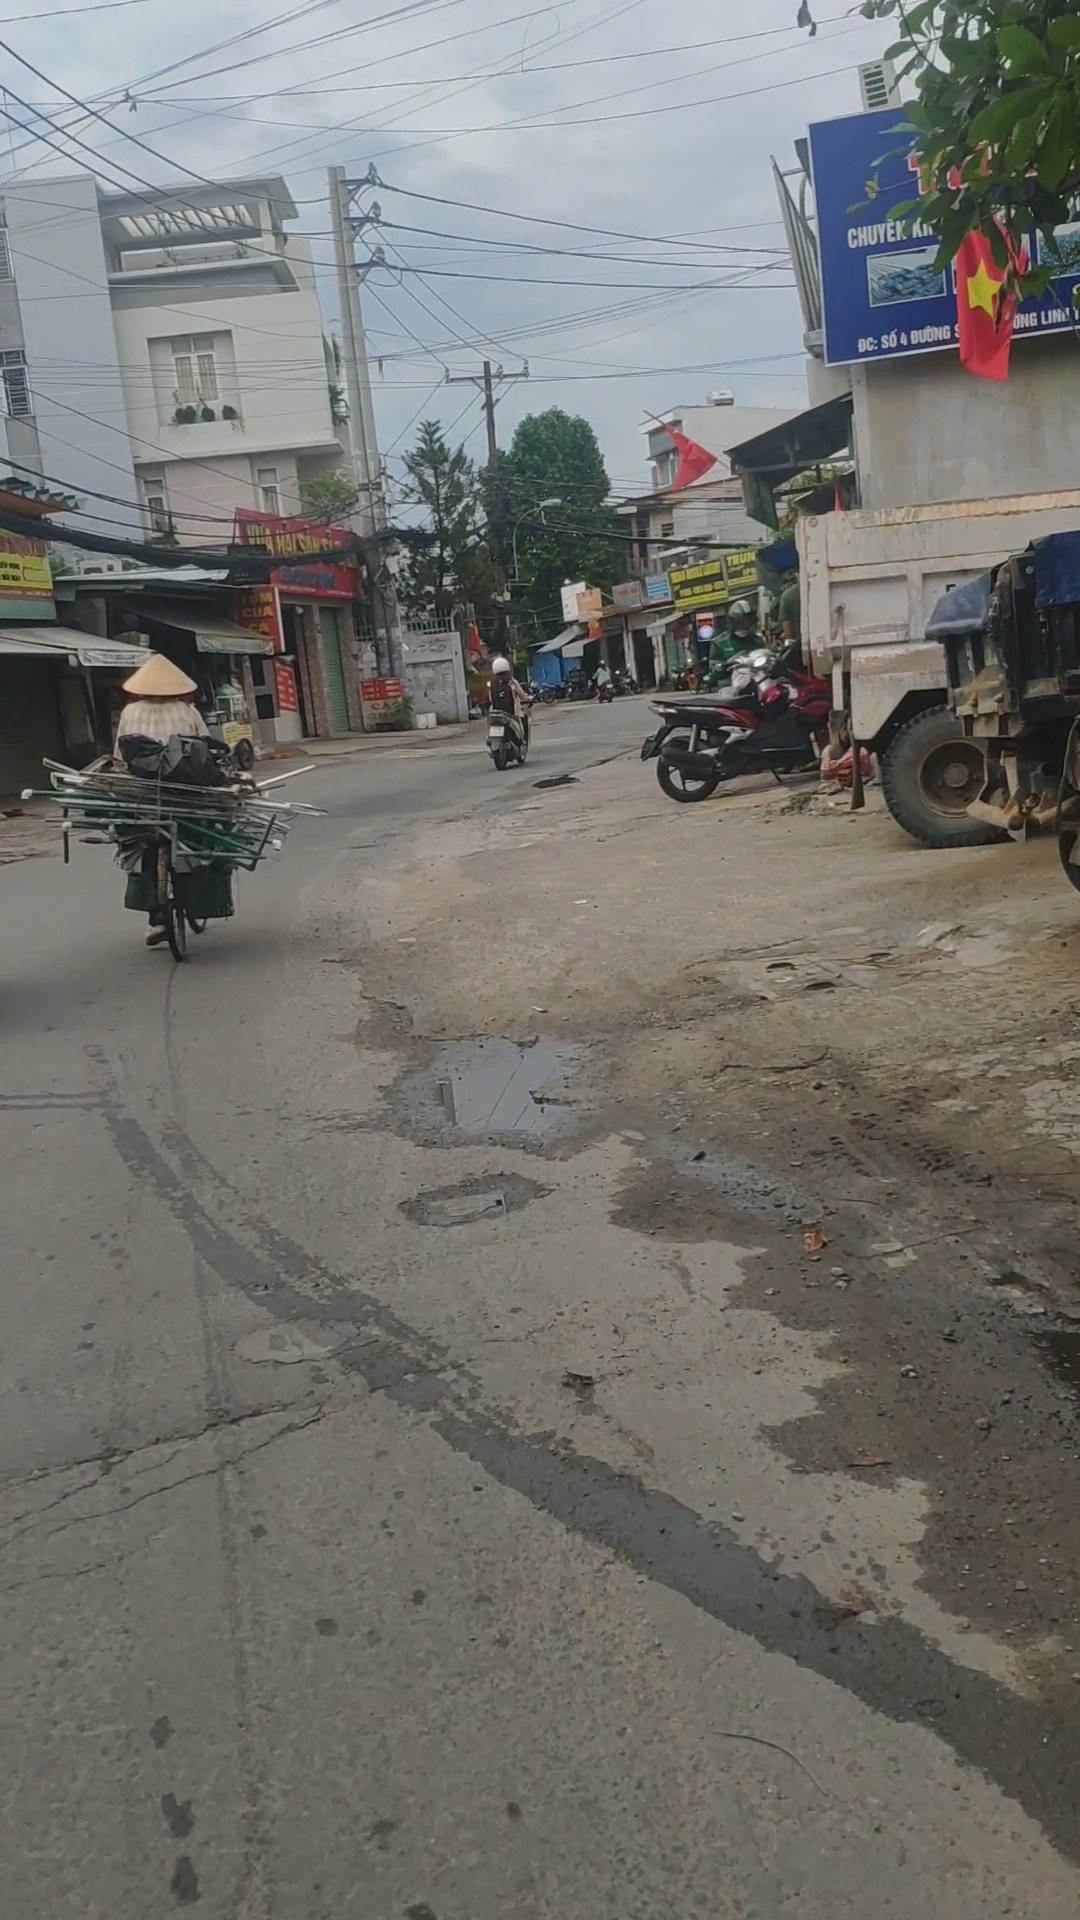hole: (400, 1015, 593, 1145), (527, 771, 585, 794)
